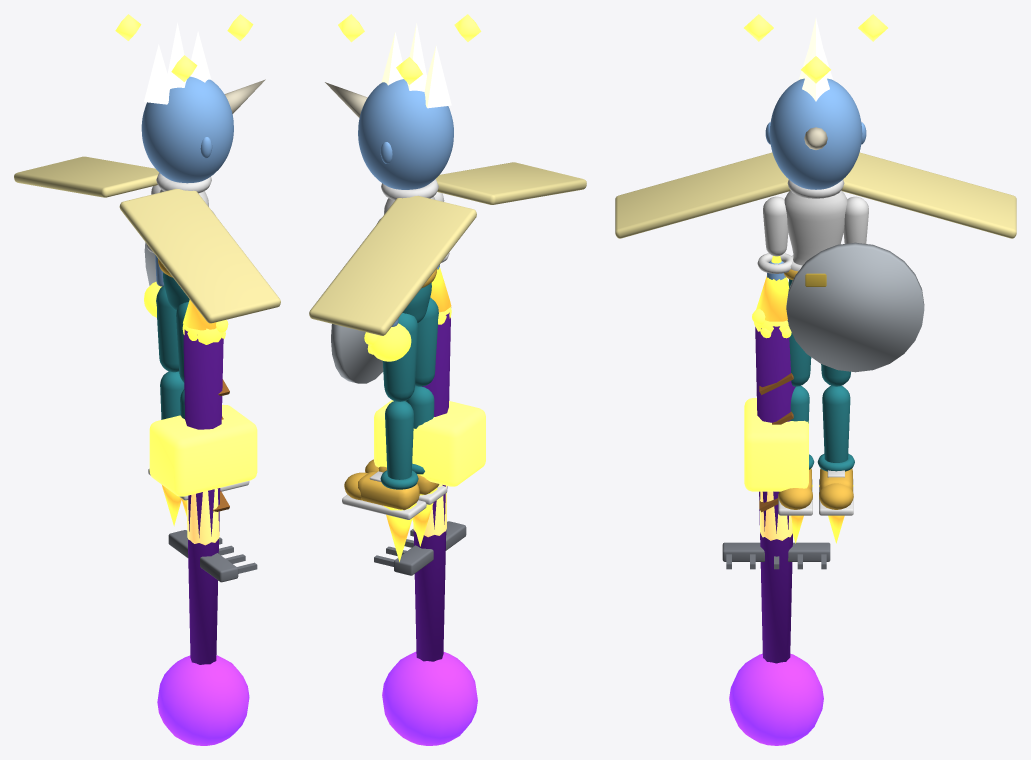
File: solara.glb
3 renders of one model, left to right at view 1: azimuth 30°, elevation 25°; view 2: azimuth 150°, elevation 25°; view 3: azimuth 270°, elevation 25°, orthographic. The views are drawn at different scales.
Visible parts, largest first — view 1: wing0, hammerHead, skull, shadowArm, shadowFist, wing1, thigh.001, baguette, rakeHead, calf.001, crest2, crest1 (+7 smaller); view 2: wing1, skull, shadowFist, hammerHead, shadowArm, wing0, prop:lid, calf.001, thigh.001, thigh, shoe.001, rakeHead (+12 smaller); view 3: prop:lid, skull, wing0, wing1, shadowArm, shadowFist, hammerHead, torso, calf.001, rakeHead, upperArm, prop:rocket (+4 smaller).
Part boxes in pixels (x1,y1,x2,y2): wing0: [119, 188, 280, 323]; hammerHead: [149, 404, 257, 496]; skull: [141, 76, 233, 183]; shadowArm: [183, 329, 223, 664]; shadowFist: [157, 655, 249, 745]; wing1: [14, 156, 158, 197]; thigh.001: [156, 285, 178, 372]; baguette: [187, 488, 219, 545]; rakeHead: [168, 530, 238, 582]; calf.001: [160, 371, 184, 419]; crest2: [144, 44, 169, 104]; crest1: [167, 22, 186, 88]; wing1: [309, 195, 476, 335]; skull: [358, 79, 453, 189]; shadowFist: [382, 651, 477, 745]; hammerHead: [374, 400, 485, 486]; shadowArm: [413, 312, 450, 661]; wing0: [436, 162, 586, 204]; prop:lid: [331, 324, 383, 383]; calf.001: [385, 401, 413, 479]; thigh.001: [382, 313, 418, 401]; thigh: [415, 297, 438, 386]; shoe.001: [358, 471, 419, 510]; rakeHead: [394, 521, 466, 575]; prop:lid: [786, 242, 924, 372]; skull: [769, 78, 862, 189]; wing0: [615, 152, 790, 238]; wing1: [841, 152, 1016, 238]; shadowArm: [755, 326, 795, 663]; shadowFist: [729, 653, 823, 745]; hammerHead: [744, 398, 808, 491]; torso: [784, 190, 847, 265]; calf.001: [822, 385, 850, 462]; rakeHead: [722, 542, 830, 561]; upperArm: [763, 196, 788, 256]; prop:rocket: [756, 256, 788, 321].
Bounding box in the file's own units: 0.8486 × 3.69 × 1.86.
